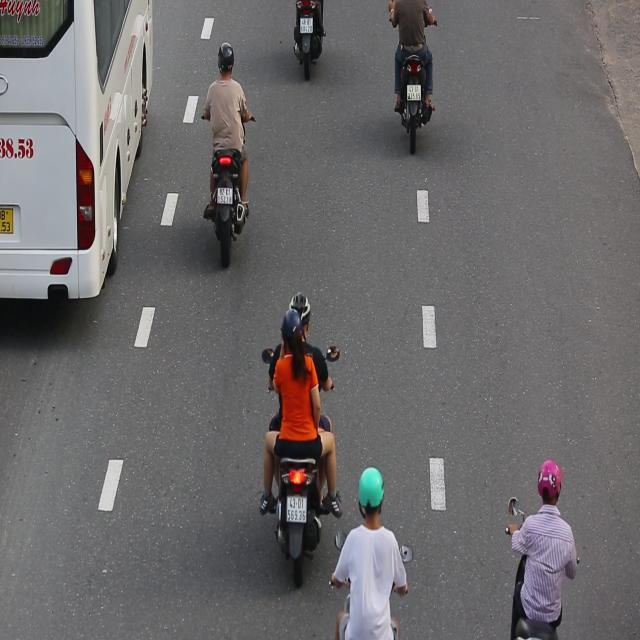motorbike: (257, 288, 339, 592), (199, 31, 257, 269)
